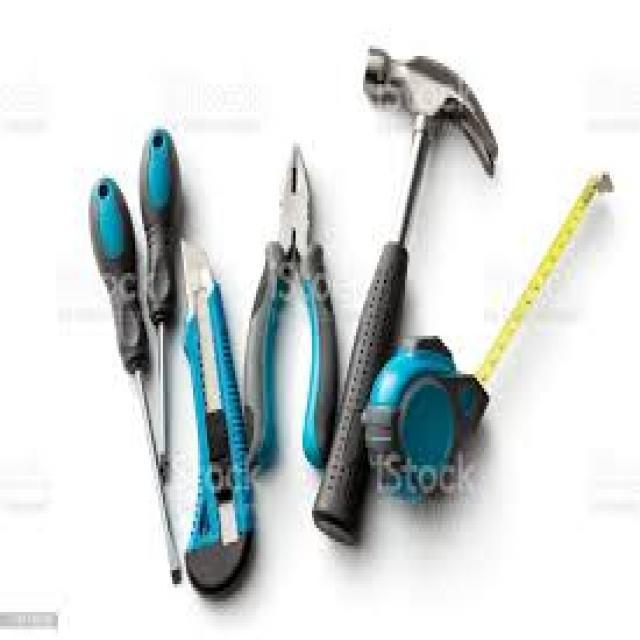hammer: (308, 32, 507, 550)
pliers: (236, 121, 344, 488)
screwdriver: (78, 166, 184, 592), (137, 89, 186, 487)
